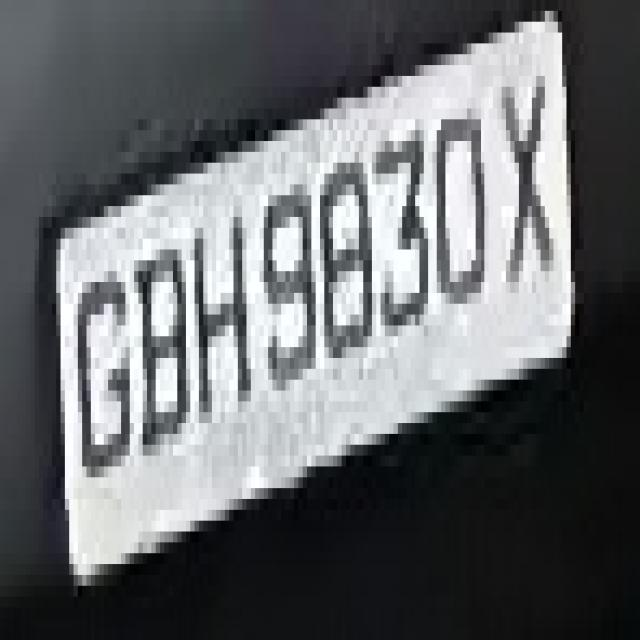0: (420, 76, 498, 358)
3: (372, 87, 432, 358)
8: (307, 109, 385, 412)
9: (246, 163, 320, 434)
B: (130, 195, 186, 499)
G: (65, 228, 138, 510)
H: (173, 184, 255, 445)
X: (493, 55, 562, 336)
